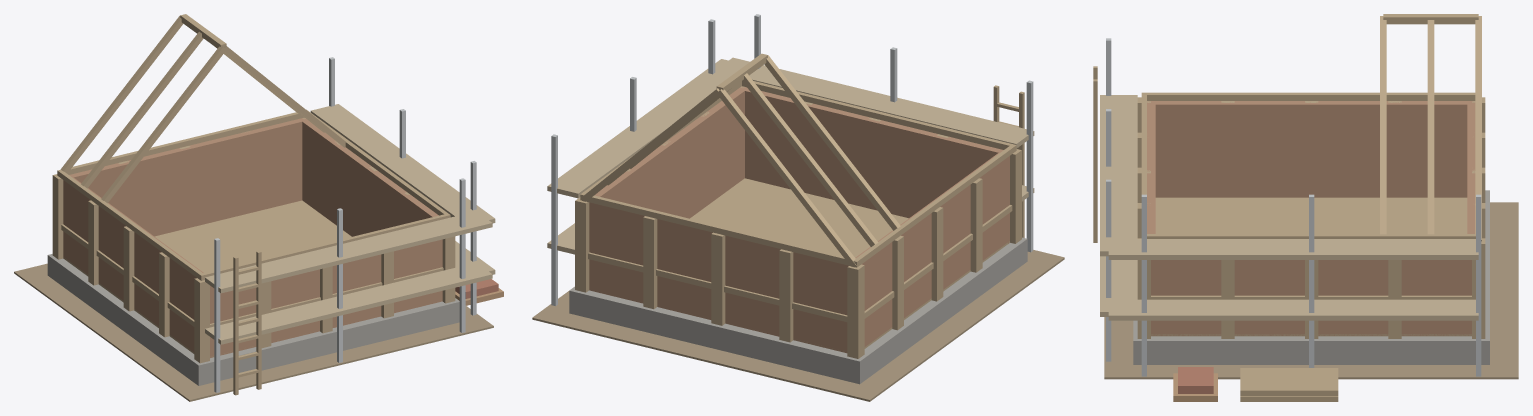
The model's file is pig_pen_site_8.glb.
The picture shows the model from 3 angles, left to right: view 1: azimuth 30°, elevation 25°; view 2: azimuth 150°, elevation 25°; view 3: azimuth 270°, elevation 25°; orthographic projection. The views are drawn at different scales.
Parts seen in each view (by area): view 1: body; view 2: body; view 3: body.
Part boxes in pixels (x1,y1,x2,y2): body: (14, 14, 503, 401); body: (532, 14, 1064, 401); body: (1093, 14, 1518, 401).
Bounding box in the file's own units: 2.1 × 1.37 × 1.91.
